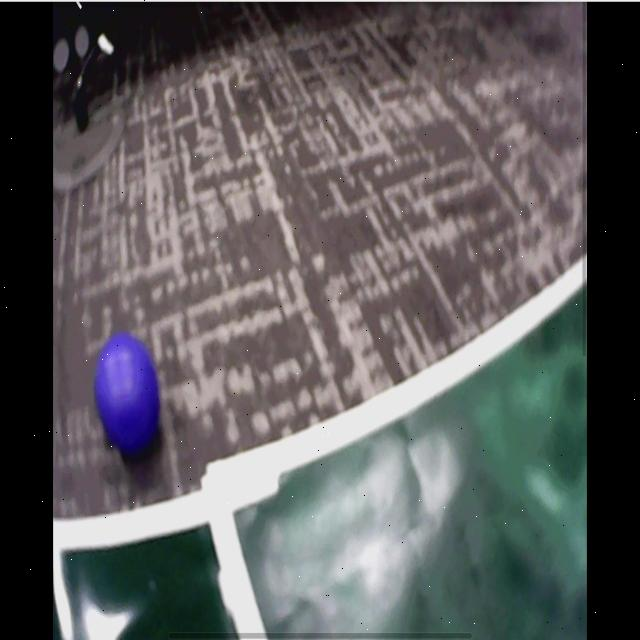ball: (94, 335, 161, 448)
